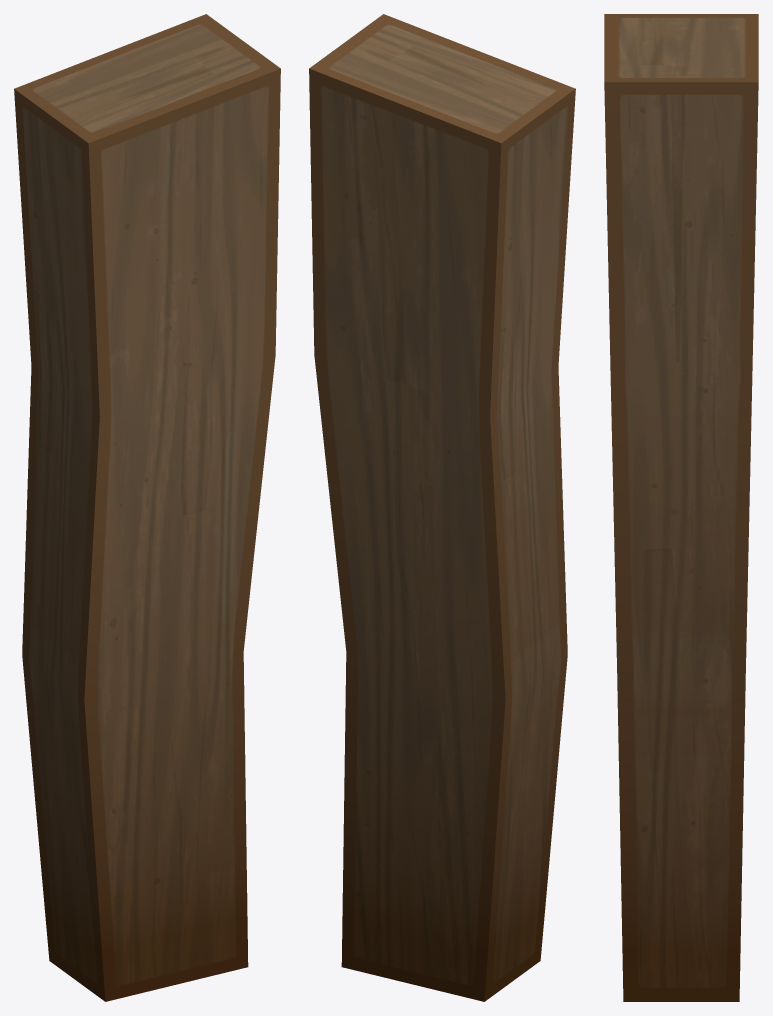
File: SM_wooden_fence_02.glb
3 views of the same model, side by side, from view 1: azimuth 30°, elevation 25°; view 2: azimuth 150°, elevation 25°; view 3: azimuth 270°, elevation 25° (orthographic). The views are drawn at different scales.
Parts seen in each view (by area): view 1: SM_wooden_fence_02; view 2: SM_wooden_fence_02; view 3: SM_wooden_fence_02.
Boxes of the visible parts, x1,y1,x2,y2 form: SM_wooden_fence_02: (14, 14, 280, 1001); SM_wooden_fence_02: (309, 14, 575, 1001); SM_wooden_fence_02: (604, 14, 758, 1001).
Size of the model in its own units: 0.3267 by 1.46 by 0.2193.
Materials: 1 (1 with a texture image).
